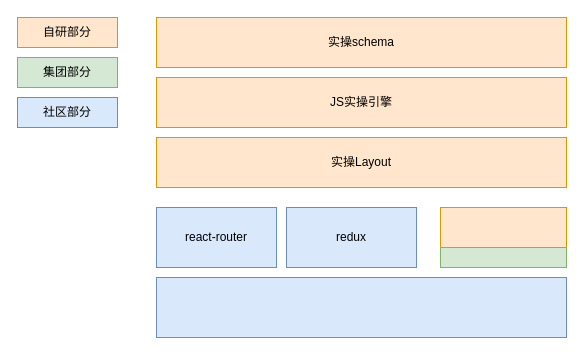
This 584x355 diagram has some shape labels left out. Here are the shapes that lost their labels. From the top down, the centre of each, then its label:
[503,227]: 实操组件库
[503,257]: fusion/next
[361,307]: React
